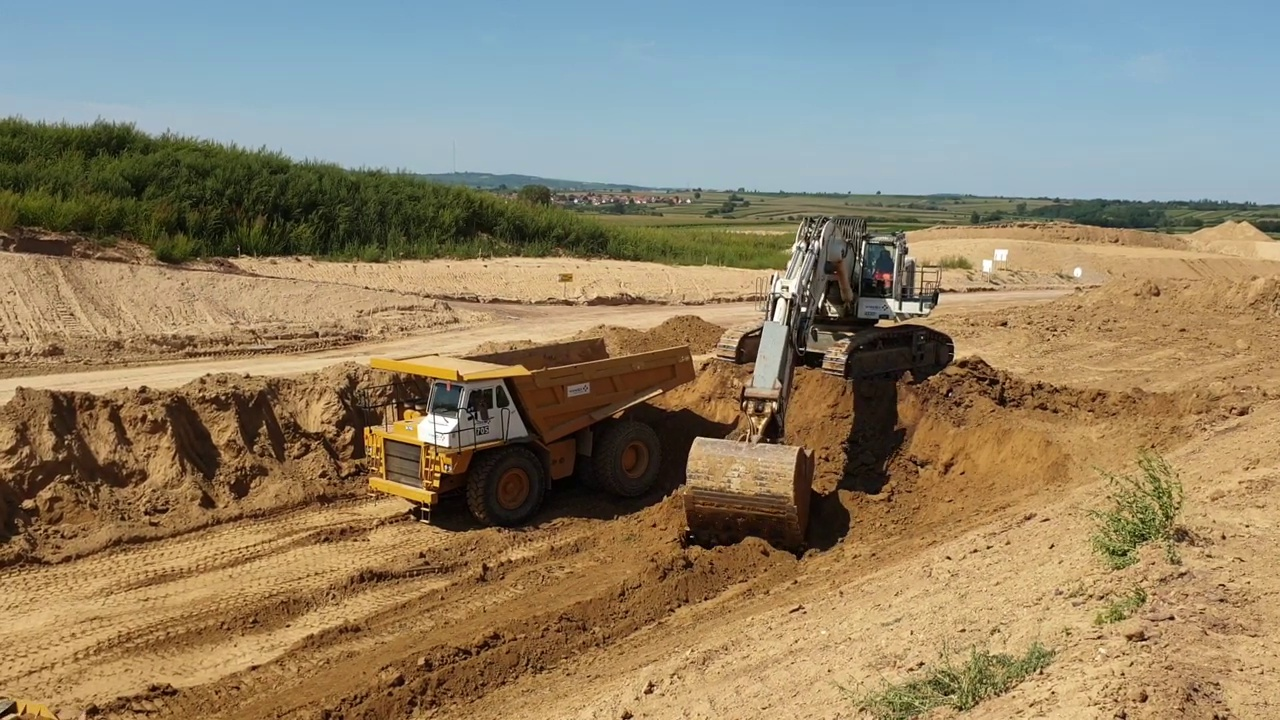excavator: (683, 209, 957, 554)
truck: (347, 334, 704, 534)
